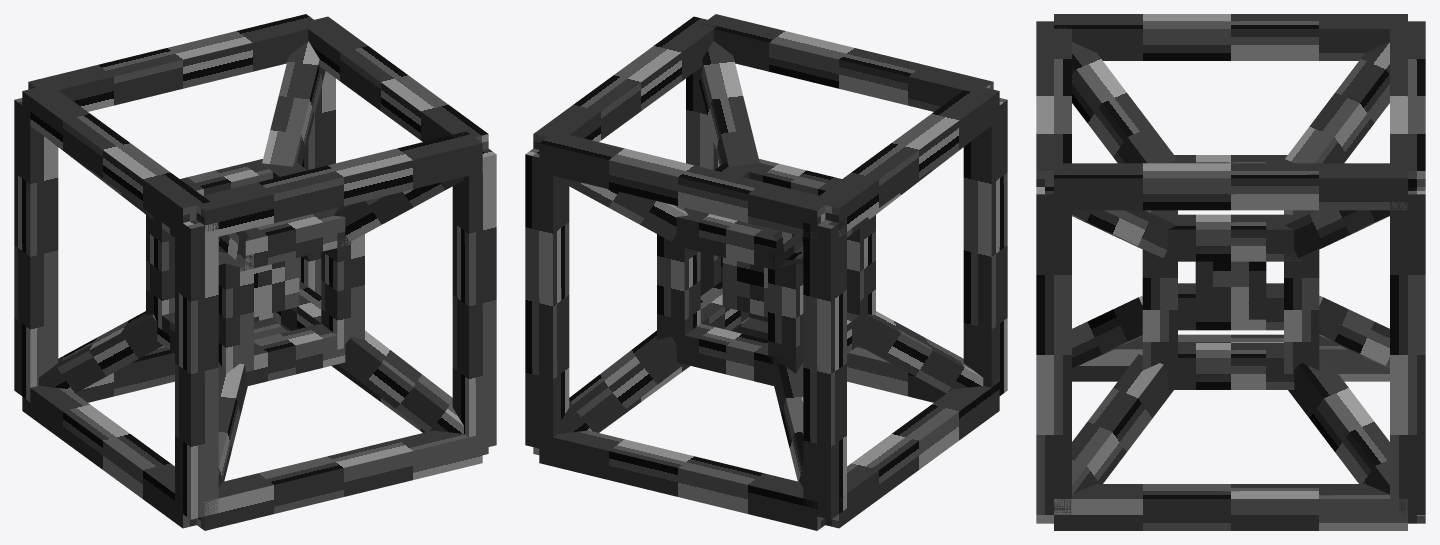
3 views of the same model, side by side, from view 1: azimuth 30°, elevation 25°; view 2: azimuth 150°, elevation 25°; view 3: azimuth 270°, elevation 25° (orthographic). The views are drawn at different scales.
Parts seen in each view (by area): view 1: tesseract, Cube; view 2: tesseract, Cube; view 3: tesseract, Cube.
Boxes of the visible parts, x1,y1,x2,y2 form: tesseract: (14, 14, 496, 530); Cube: (254, 257, 299, 317); tesseract: (525, 14, 1007, 530); Cube: (722, 257, 767, 317); tesseract: (1036, 14, 1425, 530); Cube: (1195, 261, 1266, 319).
Bounding box in the file's own units: 1.1 × 1.1 × 1.1.
